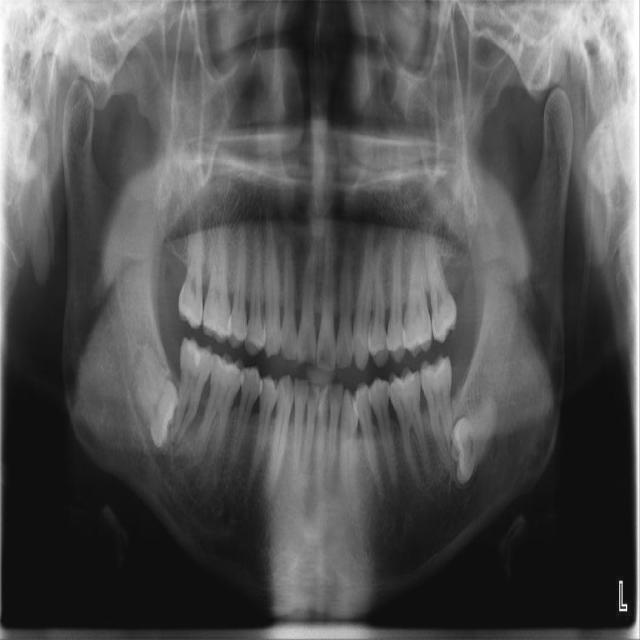impacted tooth: (130, 343, 176, 446), (452, 392, 499, 481)
